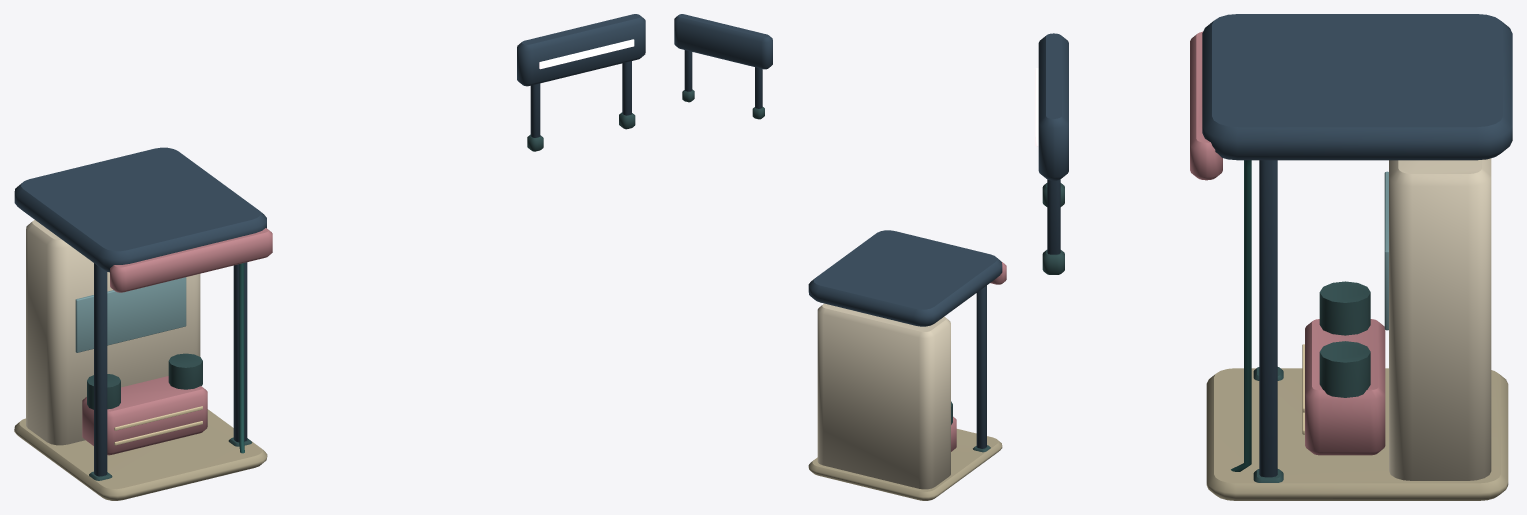
File: luxury_tuning_4.glb
The picture shows the model from 3 angles, left to right: view 1: azimuth 30°, elevation 25°; view 2: azimuth 150°, elevation 25°; view 3: azimuth 270°, elevation 25°; orthographic projection. The views are drawn at different scales.
Visible parts, largest first — view 1: LuxuryTuning4; view 2: LuxuryTuning4; view 3: LuxuryTuning4.
Boxes of the visible parts, x1=… form: LuxuryTuning4: x1=14, y1=14, x2=645, y2=500; LuxuryTuning4: x1=674, y1=14, x2=1006, y2=500; LuxuryTuning4: x1=1035, y1=14, x2=1512, y2=500.
Size of the model in its own units: 6.88 by 5.57 by 3.92.
